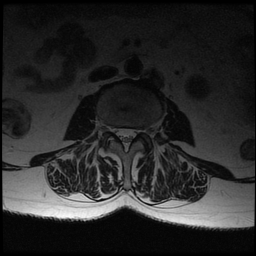CCS_normal: (122, 121, 130, 158)
LFS_severe_stenosis: (138, 121, 145, 143)
LLS_stenosis: (130, 120, 138, 149)
RFS_normal: (106, 116, 114, 141)
RLS_normal: (114, 120, 122, 146)
